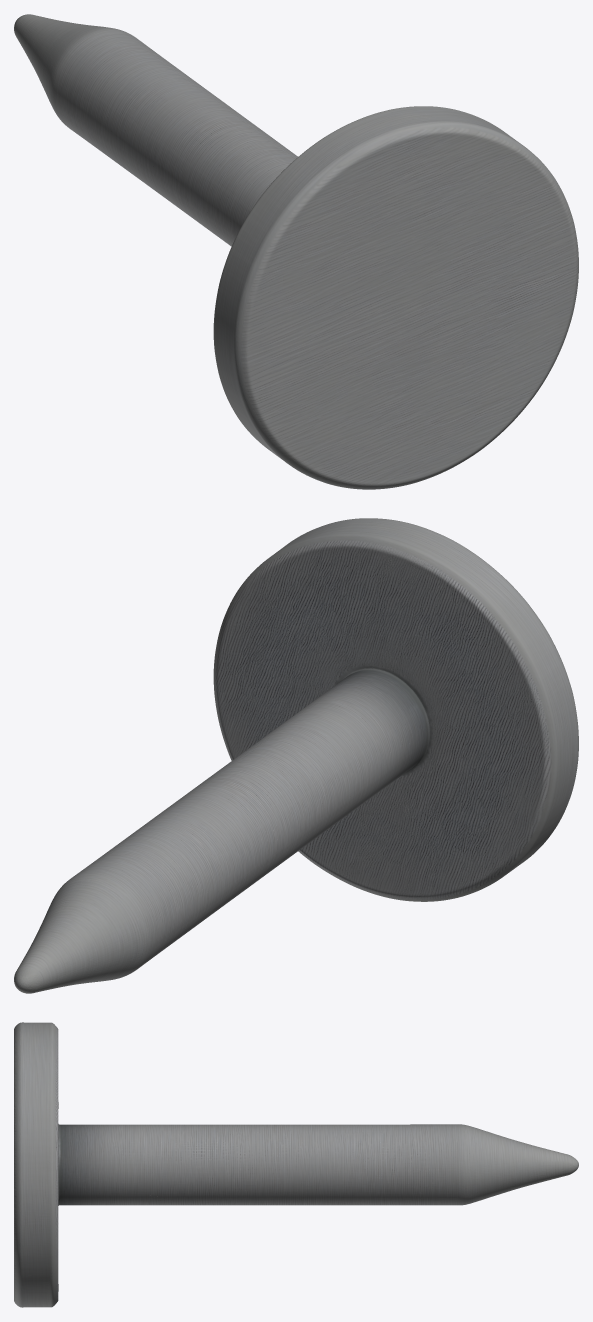
The model's file is nail_body_plain.obj.
The picture shows the model from 3 angles, top to bottom: view 1: azimuth 30°, elevation 25°; view 2: azimuth 150°, elevation 25°; view 3: azimuth 270°, elevation 25°; orthographic projection. The views are drawn at different scales.
Size of the model in its own units: 0.5465 by 0.5451 by 1.08.
1 material, 1 textured.
